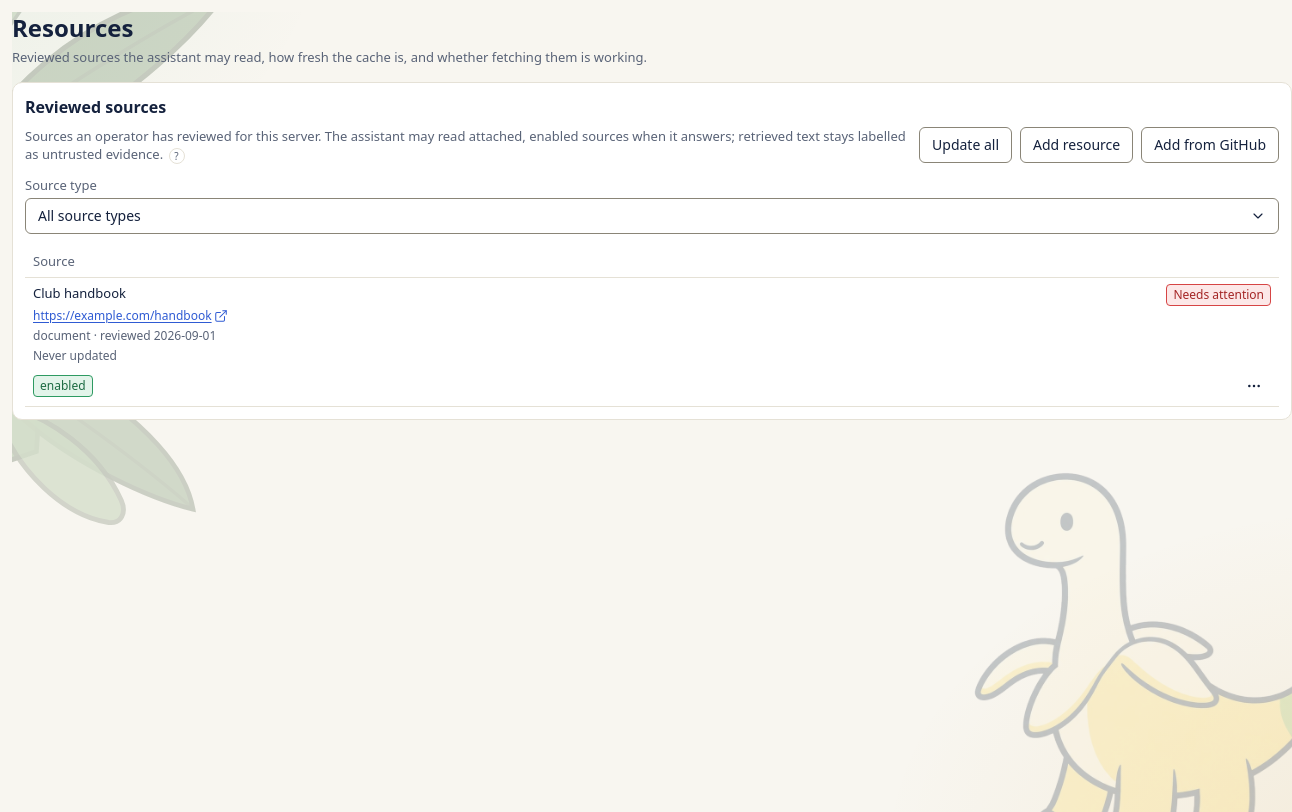
Test case: Update all sends exactly one existing POST with an empty body and CSRF header
The image size is (1292, 812).
Click the button "Update all": point(966, 145) left=919, top=127, right=1012, bottom=163
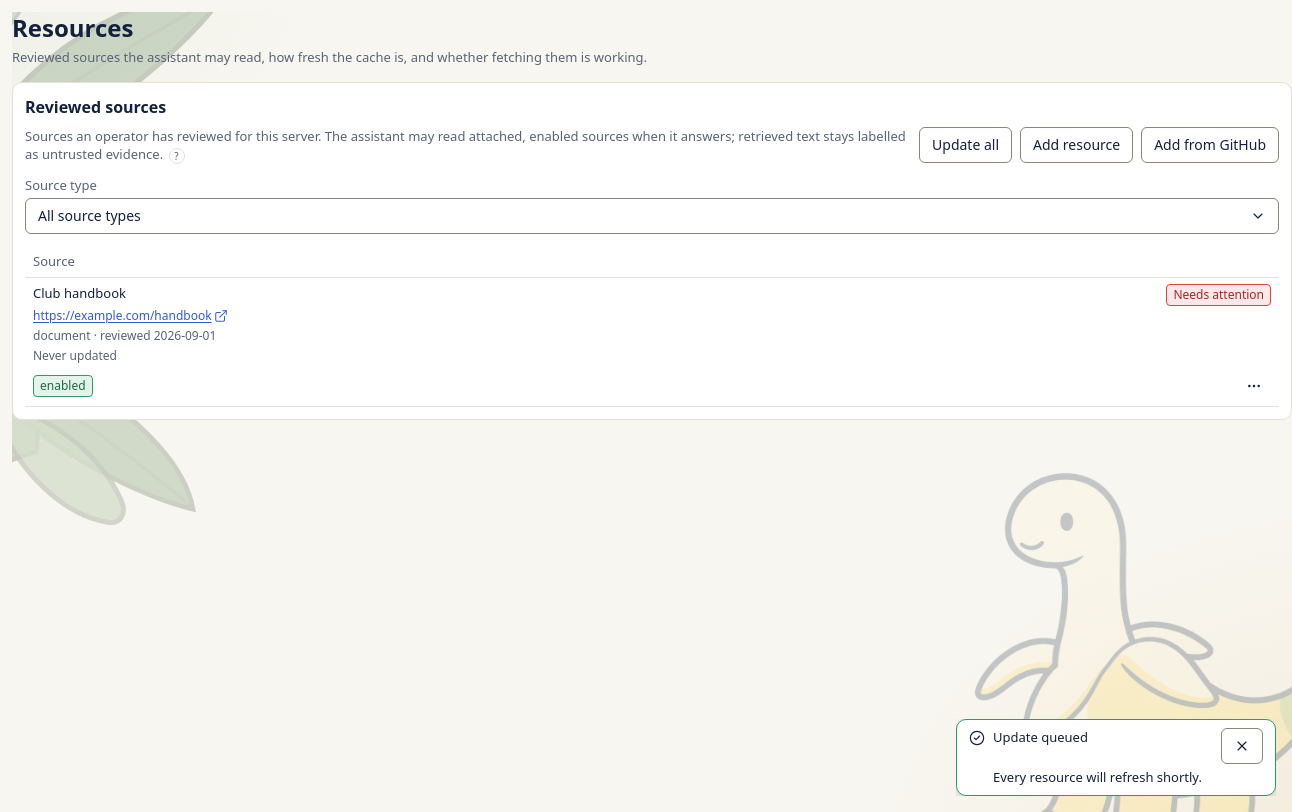
Now the text "Update queued" is shown, box left=993, top=728, right=1088, bottom=746
